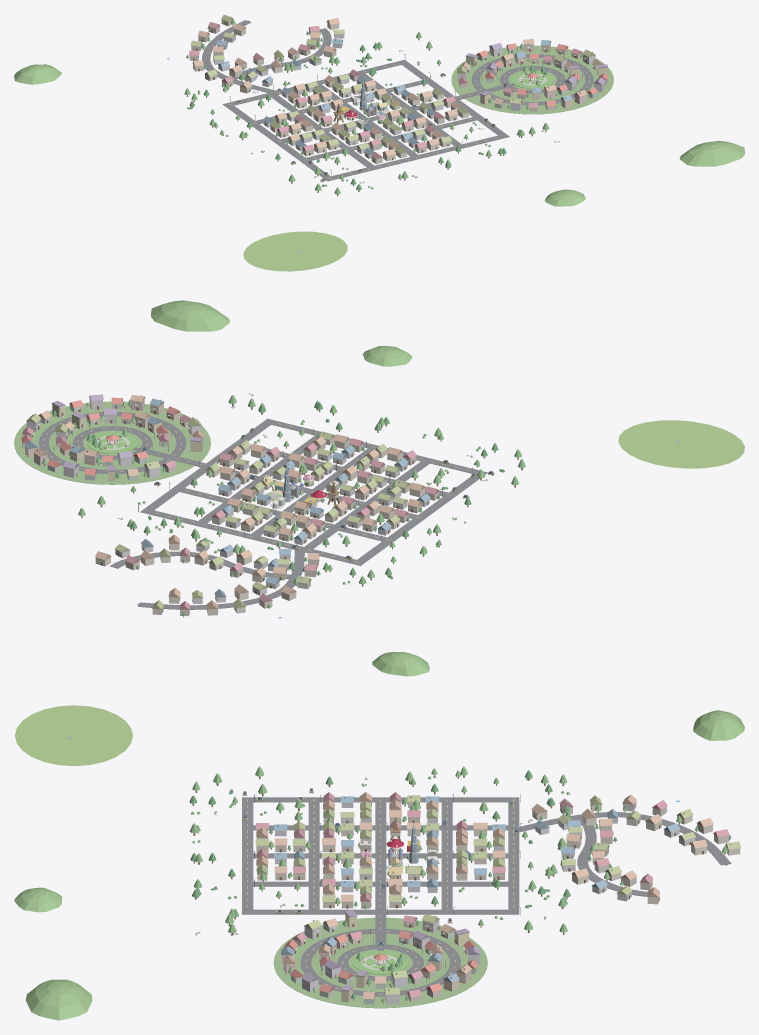
Rendered from live-day11-flickerfix.glb.
3 renders of one model, top to bottom at view 1: azimuth 30°, elevation 25°; view 2: azimuth 150°, elevation 25°; view 3: azimuth 270°, elevation 25°, orthographic. The views are drawn at different scales.
Parts seen in each view (by area): view 1: pad.001, terrain_Meadow Run Green, terrain_North Ridge, roadH, ringroad.003, terrain_Willow Hill, roadV, roadV.004, roadH.001, roadH.004, roadV.001, terrain_Pine Knoll (+4 smaller); view 2: pad.001, terrain_Meadow Run Green, terrain_North Ridge, ringroad.003, roadH.004, terrain_Willow Hill, roadV, roadV.004, roadH.003, roadH, terrain_Pine Knoll, roadV.001 (+4 smaller); view 3: pad.001, terrain_Meadow Run Green, terrain_North Ridge, ringroad.003, roadH, roadH.003, roadH.001, roadH.004, roadH.002, roadV.004, terrain_Willow Hill, terrain_Pine Knoll (+4 smaller).
Part boxes in pixels (left/top/right/bottom): pad.001: left=451, top=45, right=613, bottom=114; terrain_Meadow Run Green: left=243, top=231, right=347, bottom=271; terrain_North Ridge: left=679, top=140, right=744, bottom=166; roadH: left=324, top=133, right=509, bottom=180; ringroad.003: left=471, top=54, right=593, bottom=105; terrain_Willow Hill: left=14, top=64, right=61, bottom=84; roadV: left=227, top=105, right=332, bottom=181; roadV.004: left=402, top=63, right=508, bottom=138; roadH.001: left=298, top=115, right=484, bottom=162; roadH.004: left=222, top=59, right=408, bottom=107; roadV.001: left=271, top=95, right=377, bottom=170; terrain_Pine Knoll: left=544, top=189, right=585, bottom=206; pad.001: left=14, top=401, right=210, bottom=484; terrain_Meadow Run Green: left=618, top=420, right=744, bottom=468; terrain_North Ridge: left=151, top=300, right=229, bottom=331; ringroad.003: left=38, top=412, right=186, bottom=474; roadH.004: left=140, top=508, right=365, bottom=565; terrain_Willow Hill: left=372, top=652, right=429, bottom=676; roadV: left=357, top=473, right=486, bottom=565; roadV.004: left=140, top=422, right=270, bottom=514; roadH.003: left=171, top=486, right=395, bottom=543; roadH: left=263, top=418, right=487, bottom=474; terrain_Pine Knoll: left=362, top=346, right=412, bottom=366; roadV.001: left=304, top=461, right=429, bottom=552; pad.001: left=273, top=917, right=487, bottom=1008; terrain_Meadow Run Green: left=15, top=705, right=132, bottom=766; terrain_North Ridge: left=25, top=979, right=92, bottom=1020; ringroad.003: left=300, top=929, right=460, bottom=996; roadH: left=242, top=797, right=253, bottom=914; roadH.003: left=441, top=797, right=452, bottom=914; roadH.001: left=308, top=797, right=319, bottom=914; roadH.004: left=508, top=797, right=519, bottom=914; roadH.002: left=375, top=797, right=386, bottom=911; roadV.004: left=242, top=909, right=518, bottom=914; terrain_Willow Hill: left=693, top=710, right=744, bottom=740; terrain_Pine Knoll: left=14, top=887, right=62, bottom=912.
Size of what is drawn, in the model's own units: 404 by 25.22 by 396.
